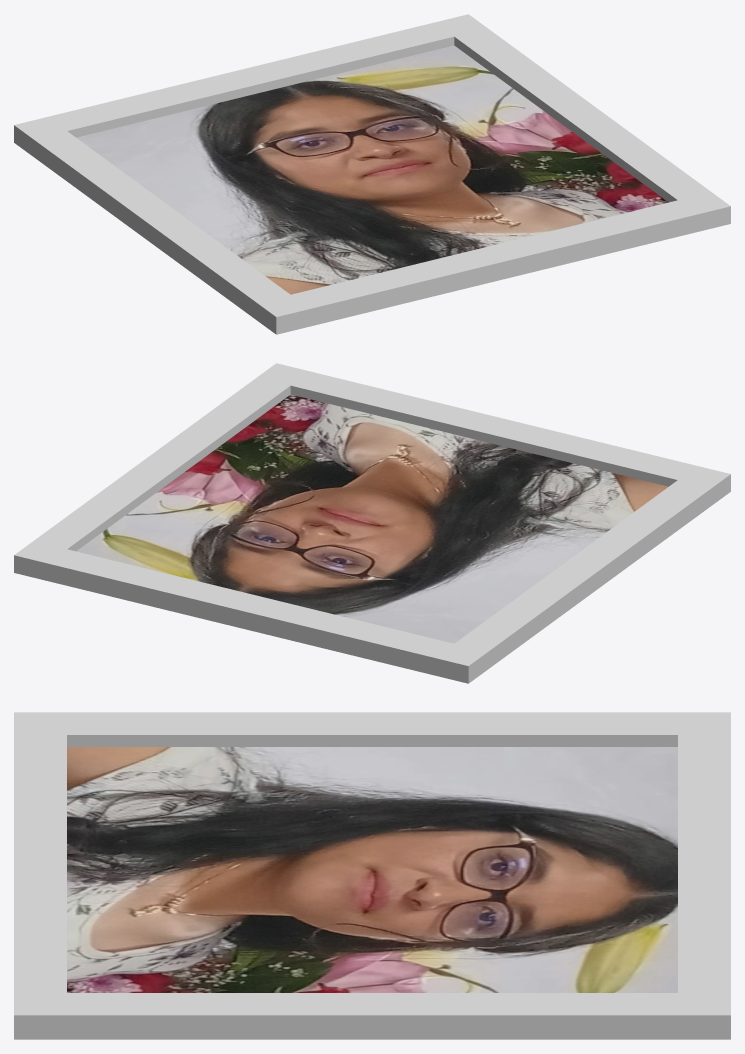
The model's file is Zuleyma.fbx.
The picture shows the model from 3 angles, top to bottom: view 1: azimuth 30°, elevation 25°; view 2: azimuth 150°, elevation 25°; view 3: azimuth 270°, elevation 25°; orthographic projection. The views are drawn at different scales.
Parts seen in each view (by area): view 1: Zuly, Cube; view 2: Zuly, Cube; view 3: Zuly, Cube.
Boxes of the visible parts, bbox=[...] form: Zuly: bbox=[76, 45, 668, 294]; Cube: bbox=[14, 14, 730, 334]; Zuly: bbox=[76, 394, 668, 643]; Cube: bbox=[14, 363, 730, 683]; Zuly: bbox=[67, 747, 677, 992]; Cube: bbox=[14, 712, 730, 1039].
Bounding box in the file's own units: 108 × 4 × 108.
